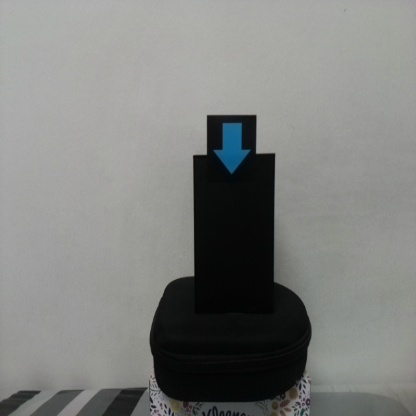id_2: (206, 115, 257, 181)
